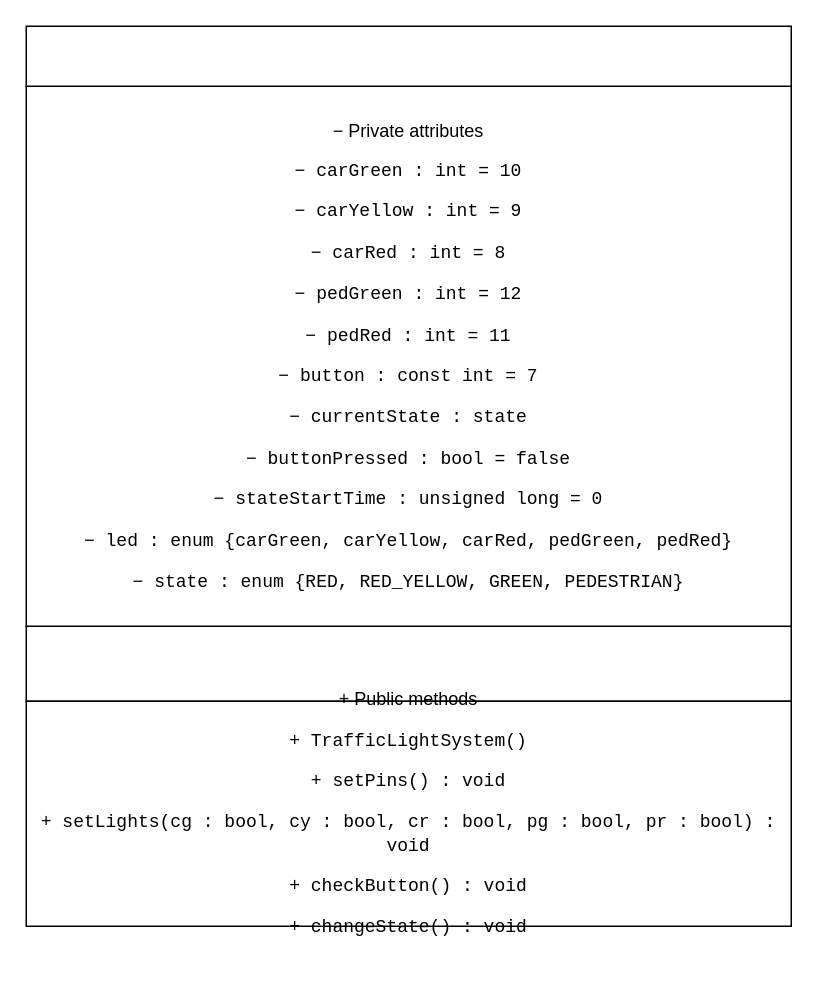
This 818x983 diagram has some shape labels left out. Here are the shapes that lost their labels. From the top down, the box of each, then its label:
(25, 25, 791, 86): Traffic_Light_System
(25, 625, 791, 701): − Private methods − changeTo(nextState : state) : void
